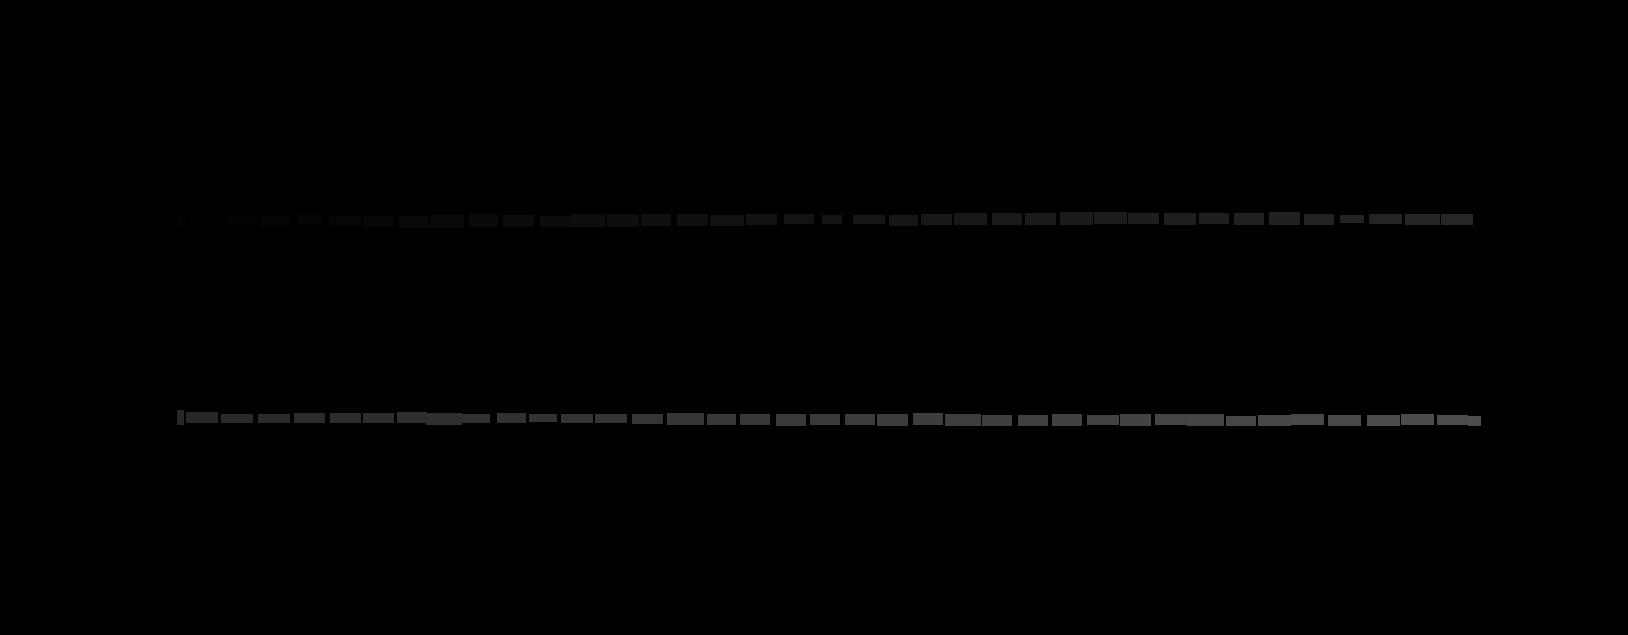light: (667, 413, 704, 425), (1187, 414, 1224, 426), (430, 215, 464, 228), (571, 214, 605, 227), (426, 413, 462, 425), (945, 414, 981, 426), (1060, 212, 1093, 225), (607, 214, 639, 227), (1269, 212, 1300, 225), (954, 213, 987, 225), (1405, 214, 1440, 225), (1094, 212, 1127, 224), (1164, 213, 1196, 225), (469, 214, 498, 227), (710, 215, 744, 226), (503, 215, 534, 227), (677, 214, 708, 226), (1025, 213, 1056, 225), (877, 414, 908, 426), (1120, 414, 1151, 426), (1291, 414, 1324, 425), (1328, 415, 1361, 426), (1401, 414, 1434, 425), (190, 214, 220, 226), (260, 215, 290, 227), (399, 216, 429, 228), (641, 214, 671, 226), (992, 213, 1022, 225), (776, 414, 806, 426), (913, 413, 943, 425), (1052, 414, 1082, 426), (1441, 214, 1473, 225), (186, 412, 218, 423), (1155, 414, 1187, 425), (1258, 415, 1291, 426), (1367, 415, 1400, 426), (1234, 213, 1264, 225), (540, 216, 571, 227), (921, 214, 952, 225), (1128, 213, 1159, 224), (363, 216, 394, 227), (747, 214, 777, 225), (1199, 213, 1229, 224), (1304, 214, 1334, 225), (397, 412, 427, 423), (740, 414, 770, 425), (810, 414, 840, 425), (845, 414, 875, 425), (982, 415, 1012, 426), (1017, 415, 1048, 426), (329, 216, 361, 226), (1369, 214, 1402, 224), (1087, 415, 1119, 425), (889, 215, 918, 226), (707, 414, 736, 425), (294, 413, 325, 423), (330, 413, 361, 423), (632, 414, 663, 424), (1437, 415, 1468, 425), (227, 216, 257, 226), (784, 214, 814, 224), (363, 413, 394, 423), (1226, 416, 1256, 426), (497, 413, 526, 423), (221, 414, 253, 423), (257, 414, 290, 423), (561, 414, 593, 423), (595, 414, 627, 423), (853, 215, 885, 224), (460, 414, 490, 423), (530, 414, 557, 422), (297, 215, 321, 224), (1340, 215, 1364, 223), (822, 215, 842, 224), (1468, 416, 1481, 426), (177, 214, 186, 227), (177, 410, 184, 425)
